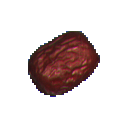gd: (12, 22, 121, 110)
